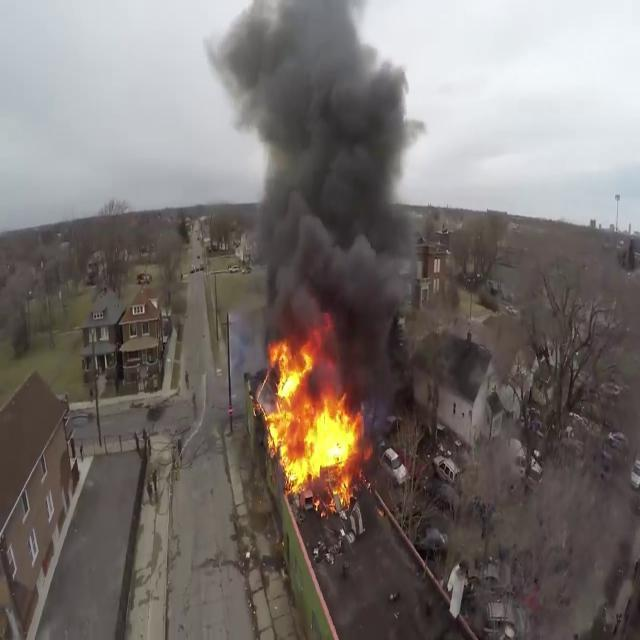Fire: (253, 334, 364, 502)
Smoke: (213, 0, 434, 369)
